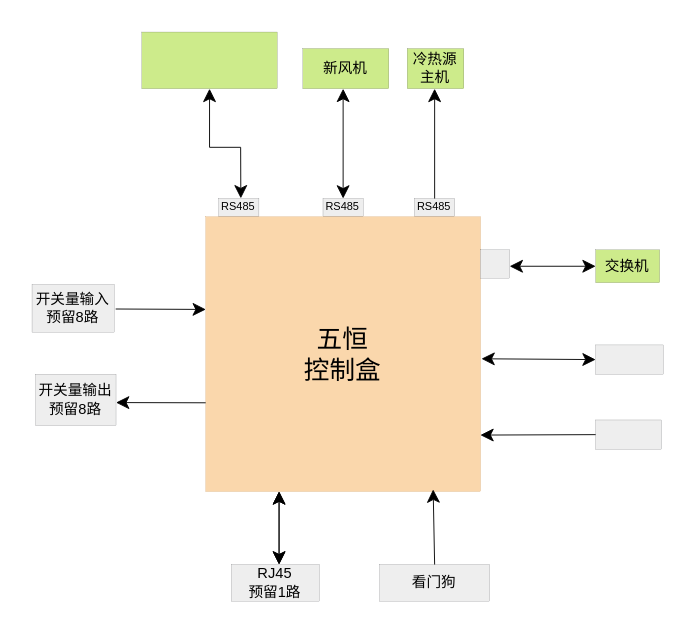
Some shapes in this 695 by 633 pixel diagram are drawn without their labels. The box of each missing label's shape, as (x1, y1, x2, y2) in pixels:
4G模块: (595, 344, 663, 374)
RJ45: (479, 249, 509, 277)
时钟: (595, 419, 661, 449)
温控器、 空气质量传感器、 继电器扩展板: (141, 31, 277, 88)
